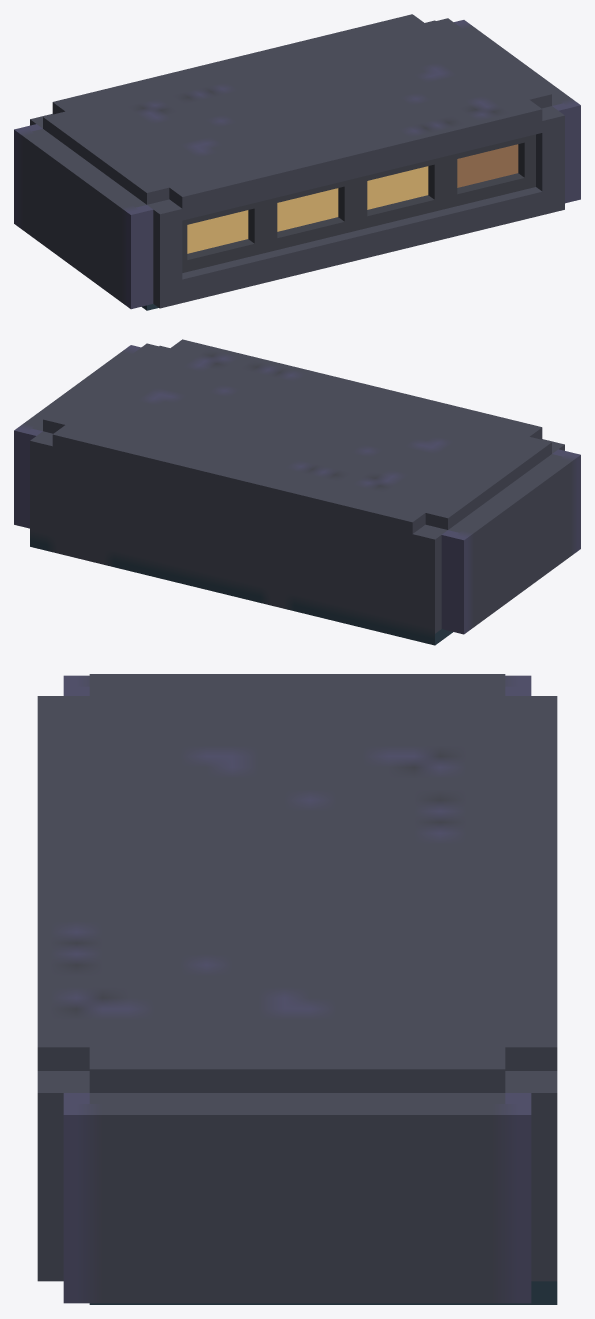
Rendered from BuildingBlock-26 1.fbx.
3 views of the same model, one above another, from view 1: azimuth 30°, elevation 25°; view 2: azimuth 150°, elevation 25°; view 3: azimuth 270°, elevation 25° (orthographic). The views are drawn at different scales.
Visible parts, largest first — view 1: BuildingBlock_26_1; view 2: BuildingBlock_26_1; view 3: BuildingBlock_26_1.
Part boxes in pixels (bbox=[...]): BuildingBlock_26_1: bbox=[14, 14, 580, 310]; BuildingBlock_26_1: bbox=[14, 339, 580, 645]; BuildingBlock_26_1: bbox=[37, 674, 557, 1304].
Bounding box in the file's own units: 400 × 100 × 200.
Materials: 2 (2 with a texture image).
